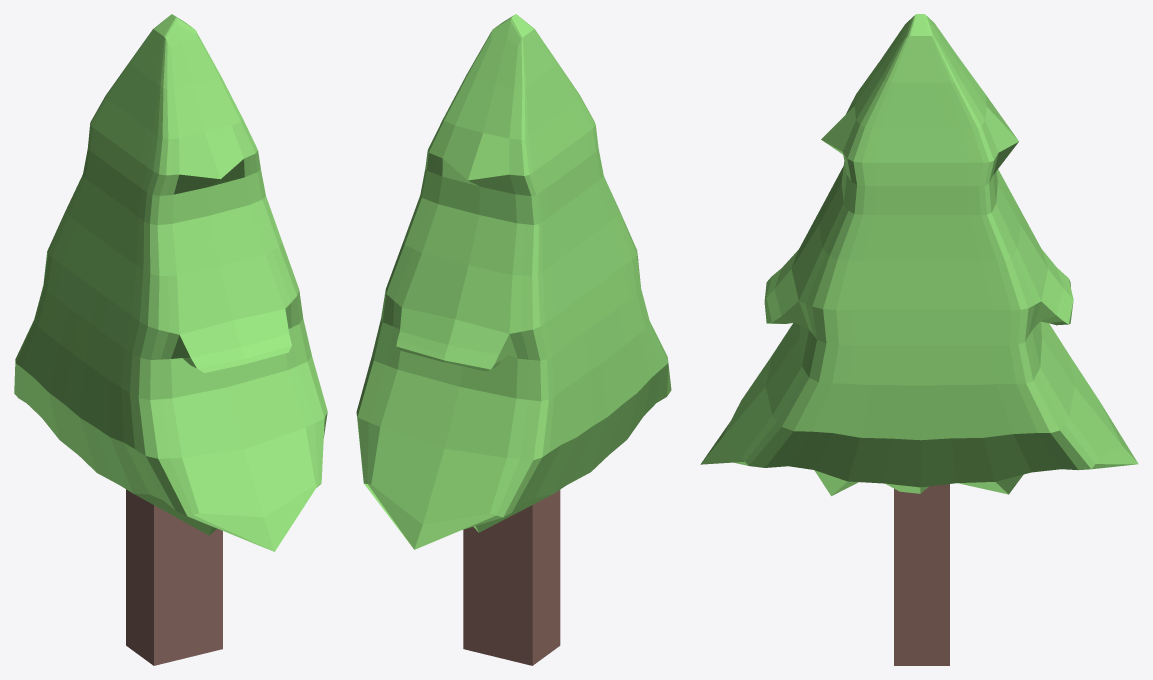
Rendered from pinheiro2.fbx.
The picture shows the model from 3 angles, left to right: view 1: azimuth 30°, elevation 25°; view 2: azimuth 150°, elevation 25°; view 3: azimuth 270°, elevation 25°; orthographic projection.
Visible parts, largest first — view 1: Cubo.001; view 2: Cubo.001; view 3: Cubo.001.
Part boxes in pixels (x1,y1,x2,y2): Cubo.001: (14, 14, 327, 665); Cubo.001: (356, 14, 671, 665); Cubo.001: (700, 14, 1138, 665).
Bounding box in the file's own units: 152 × 490 × 307.
